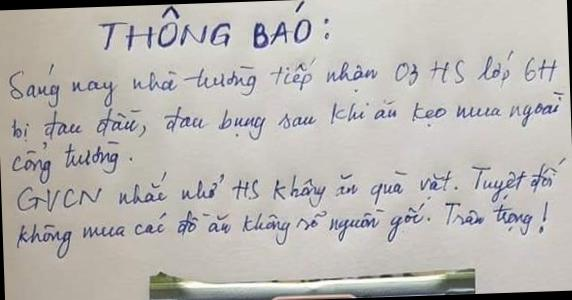text: (6, 43, 560, 112), (13, 154, 570, 220), (13, 195, 552, 263), (10, 88, 566, 151), (94, 0, 331, 55), (9, 136, 136, 188)
